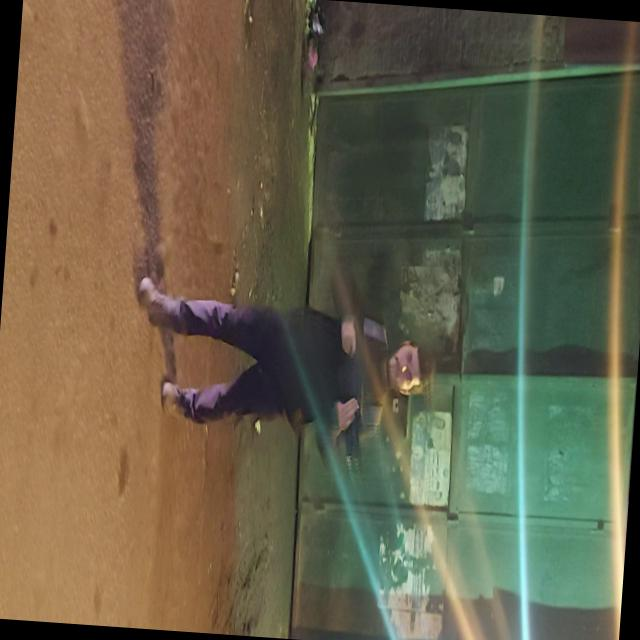long weapon: (328, 286, 380, 487)
